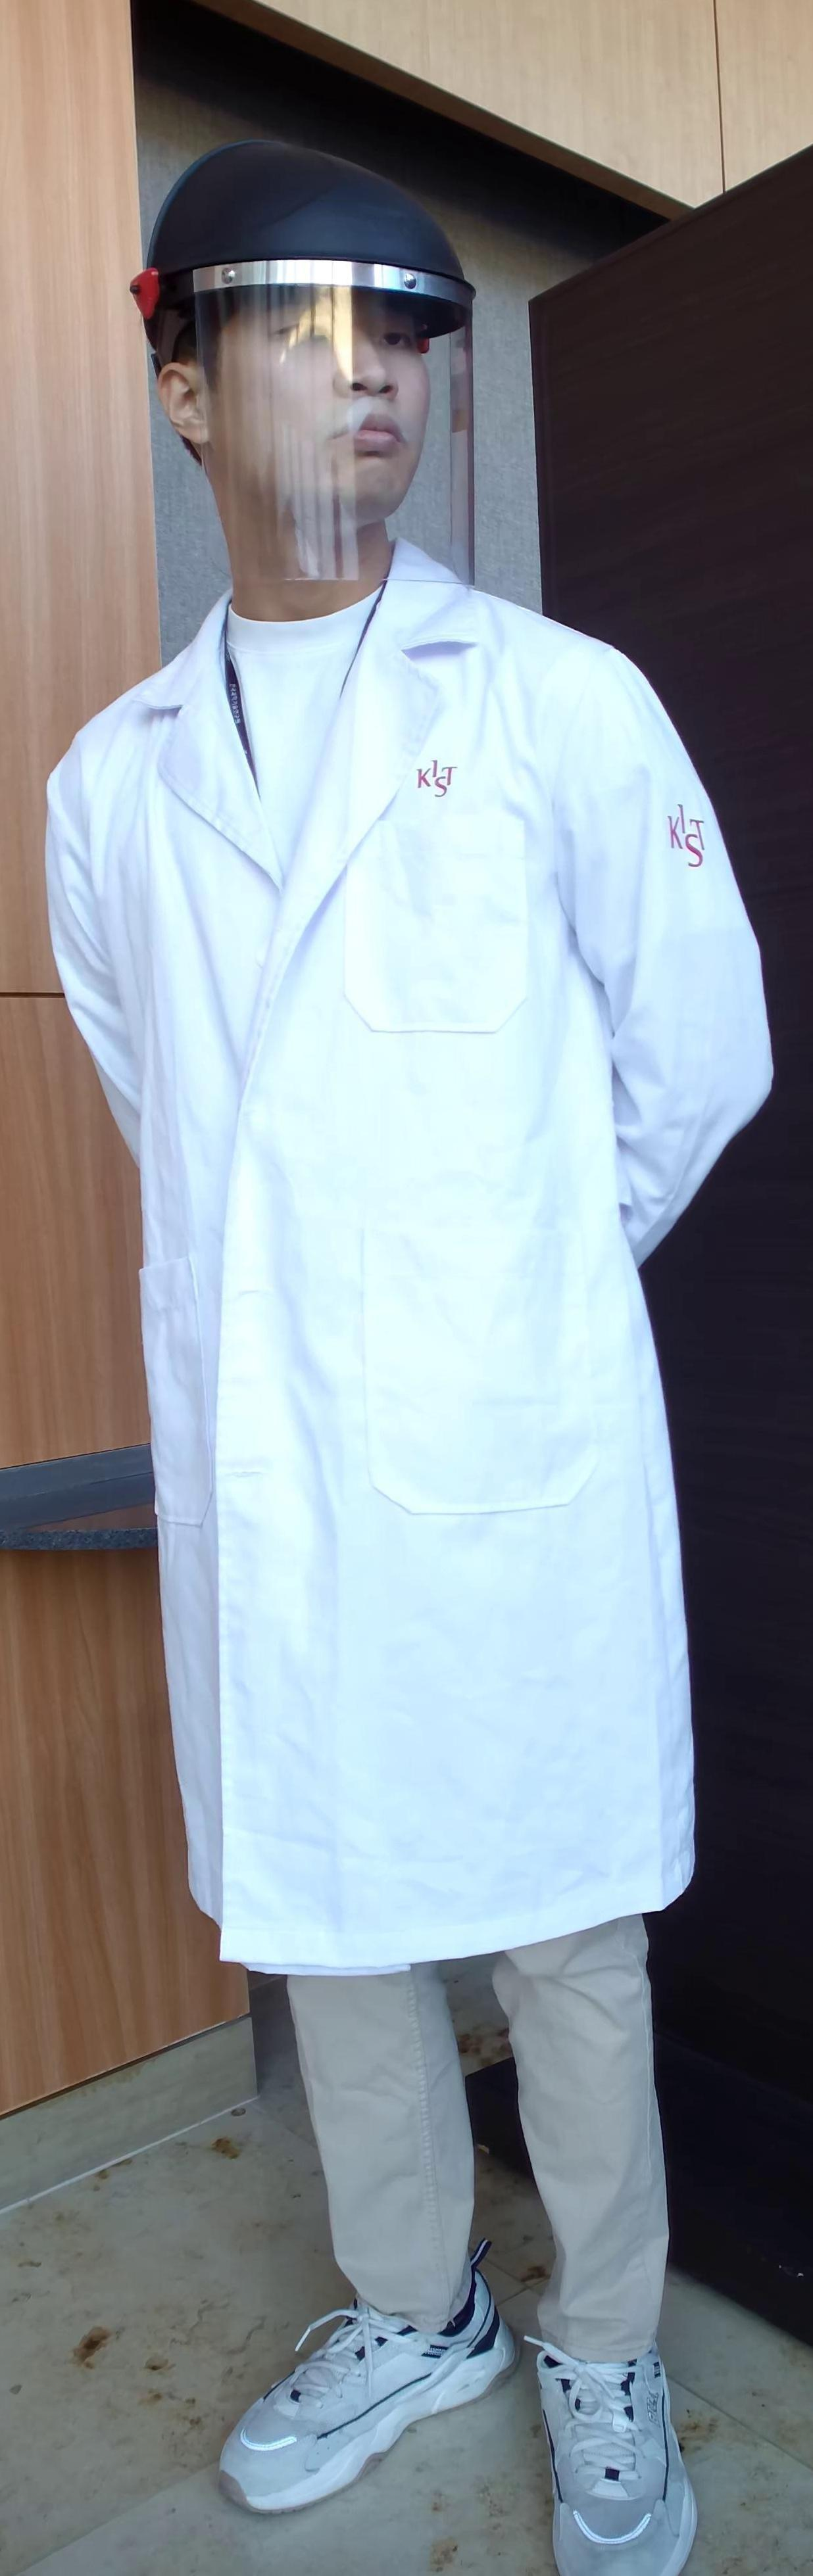lab_coat: (28, 652, 805, 1932)
